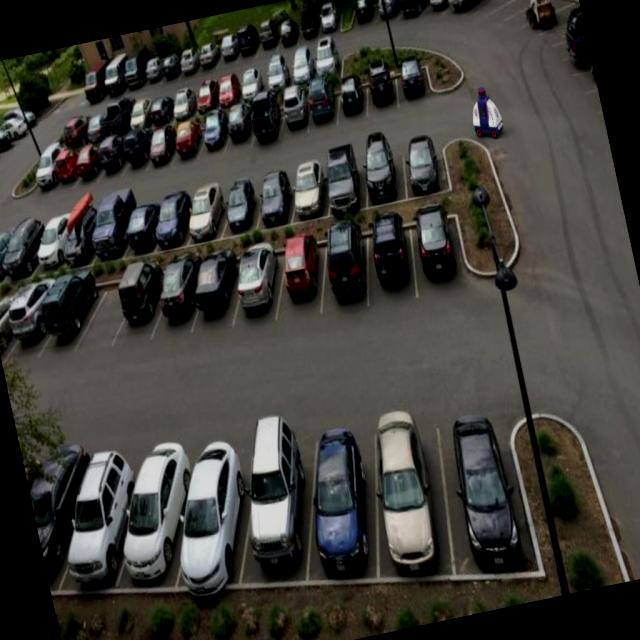car: (152, 428, 268, 600), (40, 434, 154, 606), (288, 405, 394, 581), (222, 416, 328, 587), (100, 429, 205, 588), (435, 412, 529, 586), (360, 416, 458, 576), (16, 420, 106, 580), (27, 255, 107, 369), (400, 199, 476, 313), (314, 208, 386, 326), (265, 226, 338, 334), (180, 242, 253, 350), (221, 236, 293, 344), (104, 250, 176, 358), (358, 204, 427, 314), (0, 261, 69, 366), (146, 248, 212, 352), (48, 188, 119, 274), (142, 180, 206, 258), (84, 184, 144, 264), (348, 128, 406, 208), (176, 174, 235, 252), (280, 146, 336, 227), (212, 166, 271, 242), (248, 154, 302, 236), (394, 128, 450, 207), (0, 197, 54, 278), (28, 194, 83, 271), (311, 137, 361, 212), (118, 188, 168, 260), (214, 88, 264, 154), (388, 44, 436, 110), (243, 84, 291, 148), (297, 67, 347, 128), (328, 60, 373, 124), (138, 116, 186, 176), (253, 45, 300, 105), (90, 91, 140, 145), (358, 57, 403, 116), (228, 48, 274, 104), (272, 82, 316, 136), (44, 101, 90, 150), (168, 112, 208, 166), (187, 26, 230, 76), (160, 74, 202, 124), (311, 35, 351, 87), (282, 38, 322, 90), (187, 67, 227, 119), (206, 22, 246, 74), (91, 129, 130, 182), (120, 85, 160, 136), (74, 94, 114, 144), (0, 208, 24, 290), (207, 61, 247, 110), (148, 39, 190, 85), (192, 108, 232, 156), (133, 46, 173, 94), (308, 0, 349, 46), (66, 138, 105, 186), (268, 5, 308, 50), (95, 51, 132, 98), (226, 16, 262, 64), (117, 128, 156, 172), (250, 6, 286, 53), (140, 87, 178, 131), (74, 62, 112, 106), (25, 146, 62, 191), (50, 143, 84, 190), (364, 0, 414, 31), (536, 0, 584, 31), (440, 0, 498, 24), (291, 0, 323, 43), (115, 50, 149, 90), (348, 0, 388, 33), (169, 36, 202, 76), (508, 0, 562, 23), (392, 0, 436, 25), (421, 0, 464, 19)
free: (69, 259, 137, 365), (460, 0, 512, 28), (484, 0, 538, 22)
